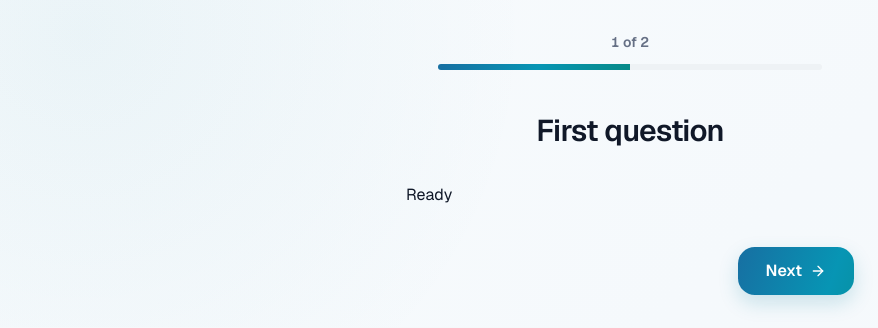
Test: GuidedWizard › moves focus after navigation and completes only on the last valid step
Later steps or results of the test are not shown.
Click the button "Next": (796, 271) [738,247,854,295]
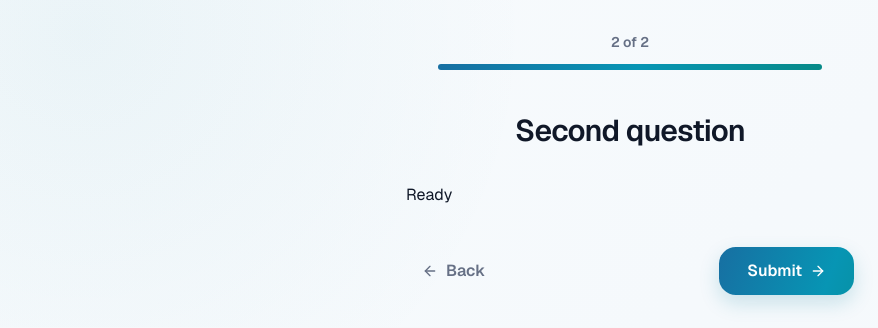
Expected: the button "Back" is shown, [406,247,501,295]
